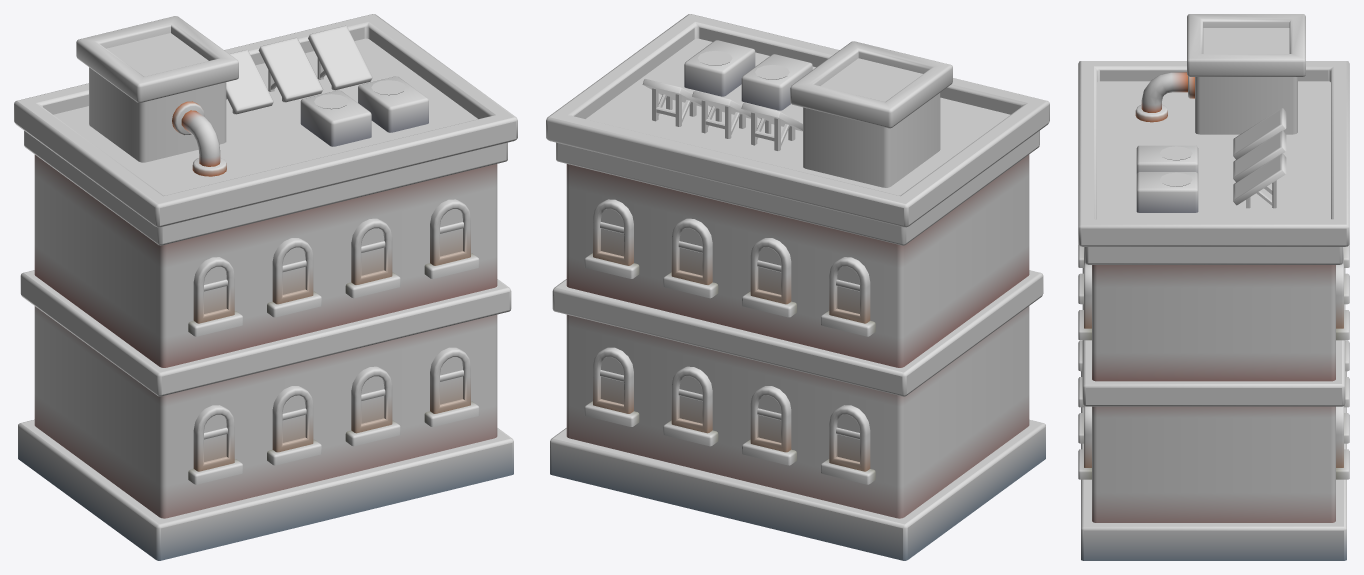
The model's file is NF_Bld_House 42.fbx.
The picture shows the model from 3 angles, left to right: view 1: azimuth 30°, elevation 25°; view 2: azimuth 150°, elevation 25°; view 3: azimuth 270°, elevation 25°; orthographic projection. The views are drawn at different scales.
Visible parts, largest first — view 1: House_42; view 2: House_42; view 3: House_42.
Part boxes in pixels (x1=…): House_42: x1=14, y1=14, x2=517, y2=560; House_42: x1=546, y1=14, x2=1049, y2=560; House_42: x1=1078, y1=14, x2=1349, y2=560.
Size of the model in its own units: 9.67 by 10.88 by 6.67.
